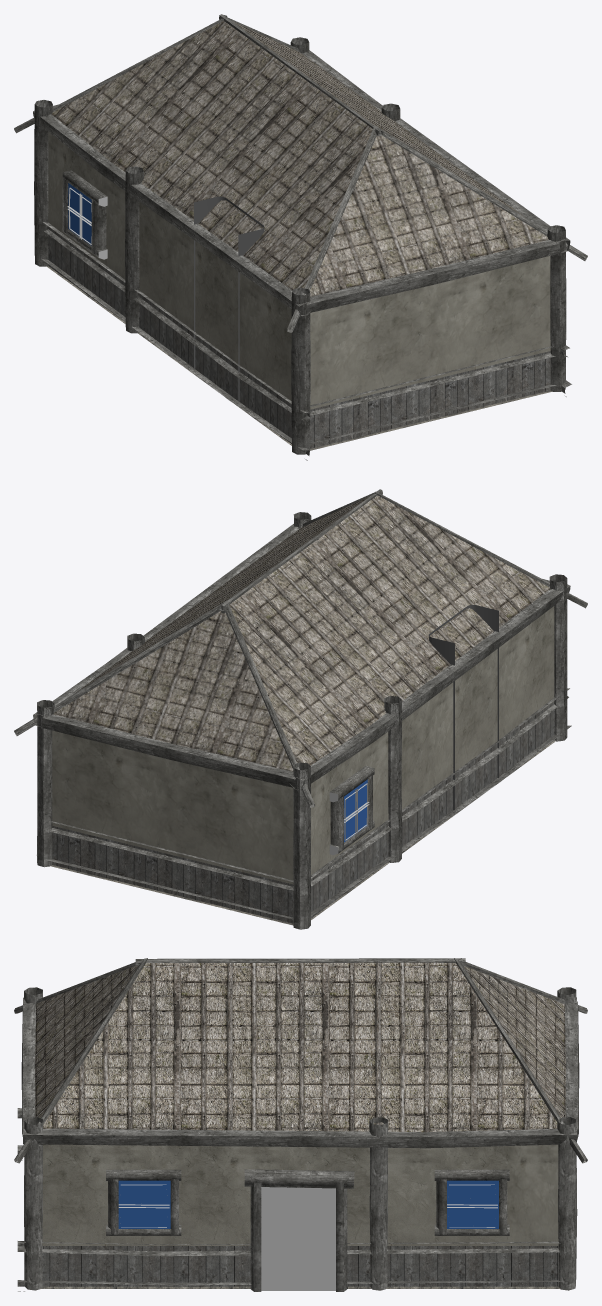
The model's file is mw_type_3_cottage_01_int.FBX.
3 views of the same model, one above another, from view 1: azimuth 30°, elevation 25°; view 2: azimuth 150°, elevation 25°; view 3: azimuth 270°, elevation 25° (orthographic). The views are drawn at different scales.
Visible parts, largest first — view 1: mw_type_3_cottage_01_roof, mw_type_3_cottage_01_wood, mw_type_3_cottage_01_walls, mw_type_3_cottage_01_stone, mw_type_3_cottage_01_int; view 2: mw_type_3_cottage_01_roof, mw_type_3_cottage_01_wood, mw_type_3_cottage_01_walls, mw_type_3_cottage_01_stone, mw_type_3_cottage_01_int; view 3: mw_type_3_cottage_01_roof, mw_type_3_cottage_01_wood, mw_type_3_cottage_01_walls, mw_type_3_cottage_01_int.
Part boxes in pixels (x1,y1,x2,y2): mw_type_3_cottage_01_roof: [52, 21, 548, 296]; mw_type_3_cottage_01_wood: [14, 14, 587, 460]; mw_type_3_cottage_01_walls: [48, 132, 550, 409]; mw_type_3_cottage_01_stone: [194, 196, 264, 402]; mw_type_3_cottage_01_int: [67, 183, 91, 245]; mw_type_3_cottage_01_roof: [53, 495, 550, 771]; mw_type_3_cottage_01_wood: [14, 489, 587, 929]; mw_type_3_cottage_01_walls: [52, 606, 554, 884]; mw_type_3_cottage_01_stone: [429, 604, 498, 809]; mw_type_3_cottage_01_int: [344, 779, 369, 842]; mw_type_3_cottage_01_roof: [35, 962, 565, 1132]; mw_type_3_cottage_01_wood: [14, 958, 587, 1291]; mw_type_3_cottage_01_walls: [42, 1144, 558, 1245]; mw_type_3_cottage_01_int: [118, 1180, 498, 1290].
Bounding box in the file's own units: 782 × 641 × 1244.
